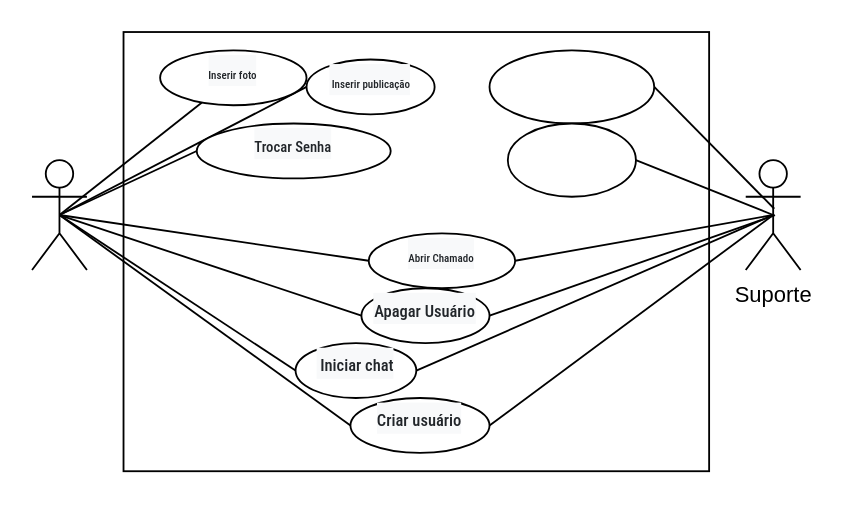
Image size: 844x507. Some labels were removed from this diagram. Here are the shapes that lost their labels. From the top down, the box of each, then its label:
(488, 48, 654, 124): concurso Chamado
(506, 122, 636, 197): Atendente Chamado
(30, 158, 87, 270): User
